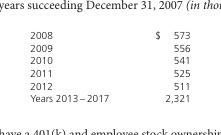table: (29, 29, 189, 103)
table column: (29, 29, 131, 103), (131, 29, 189, 103)
table row: (29, 53, 189, 66), (29, 66, 189, 79), (29, 29, 189, 41), (29, 41, 189, 53), (29, 79, 189, 91), (29, 91, 189, 103)
